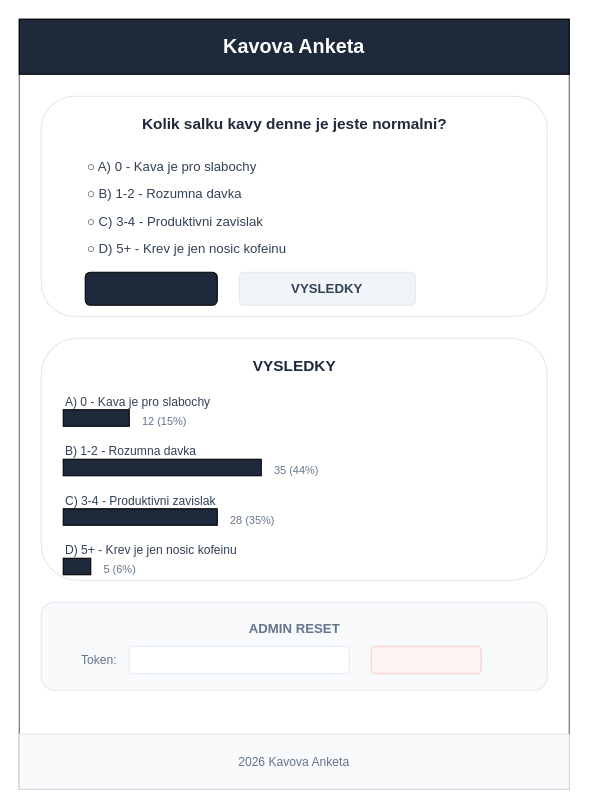
The diagram is 589 pixels wide and 809 high, and some of its shapes have lost their labels. Here are the shapes that lost their labels. From the top down, the centre of each, then its label:
At [150,288]: "HLASOVAT".
At [425,659]: "RESET".
